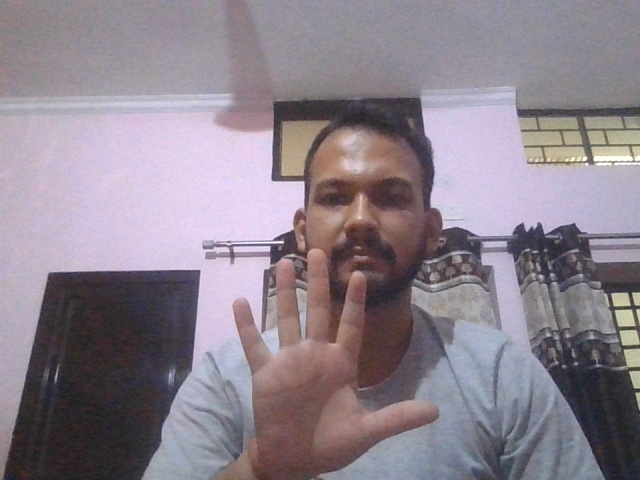hello: (232, 247, 440, 473)
